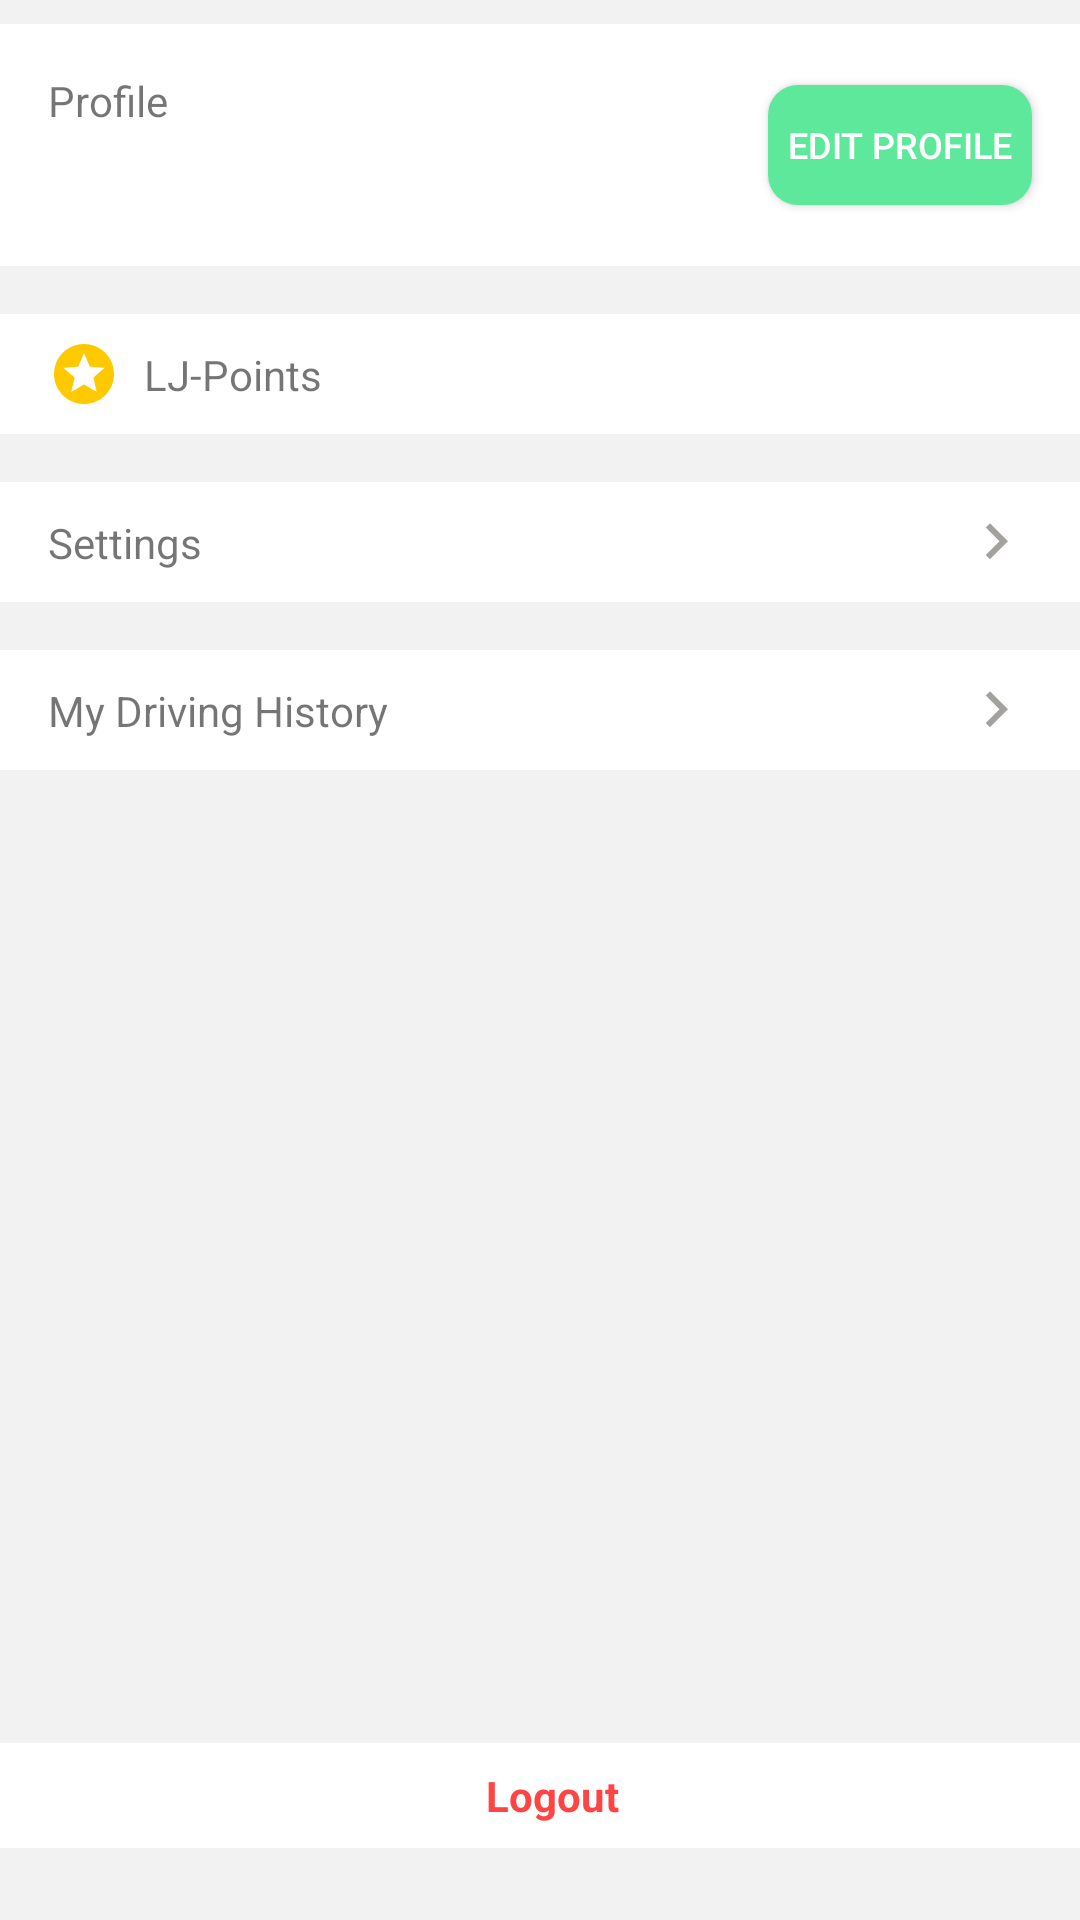

Locate icon controls on the screen. Image size 1080px x 1920px, boxes as detection(x1, y1, x2, y2).
arrow right: detection(986, 523, 1008, 559), detection(986, 691, 1008, 727)
star: detection(54, 344, 114, 404)
